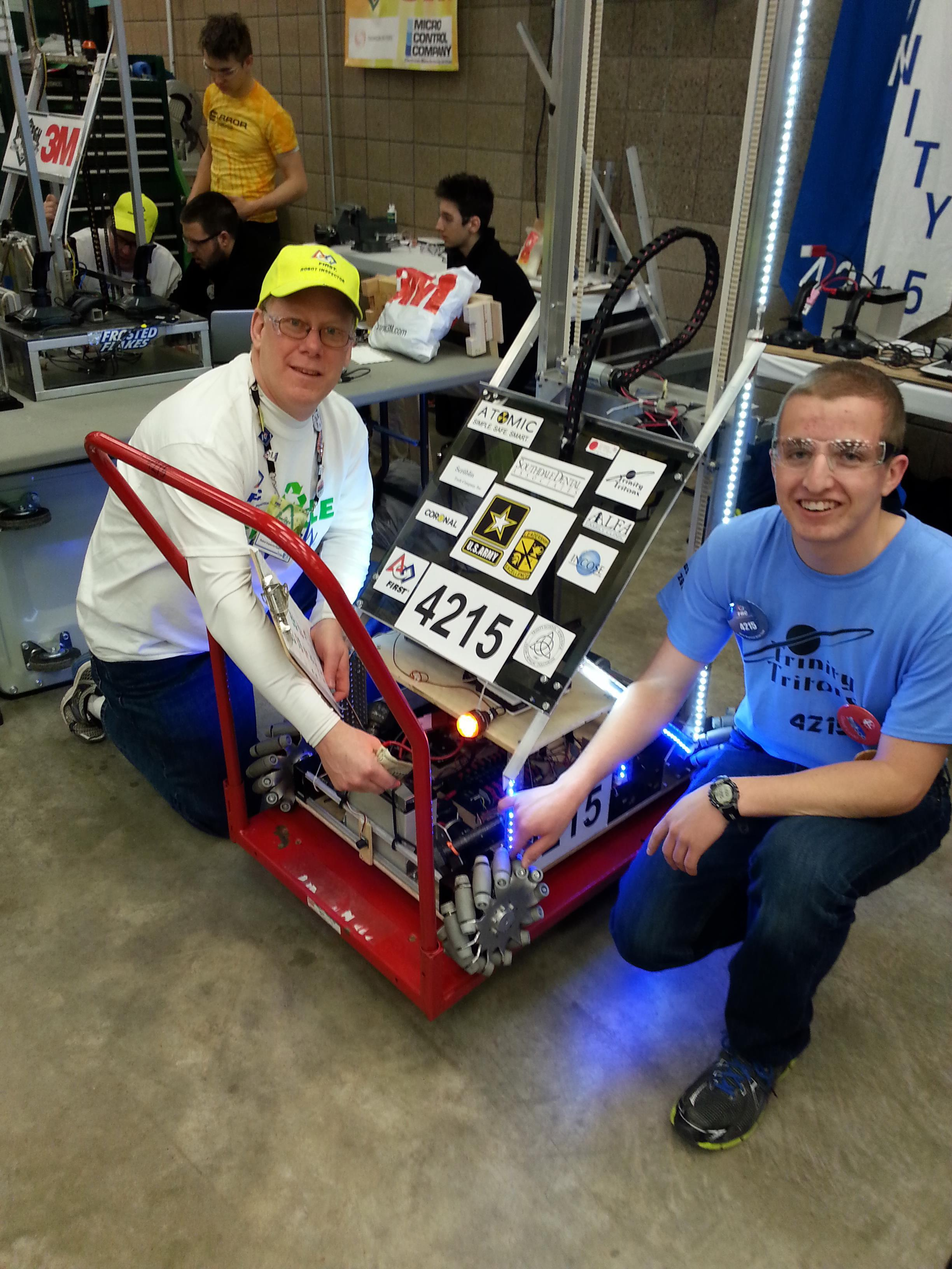robot: (241, 0, 735, 984)
